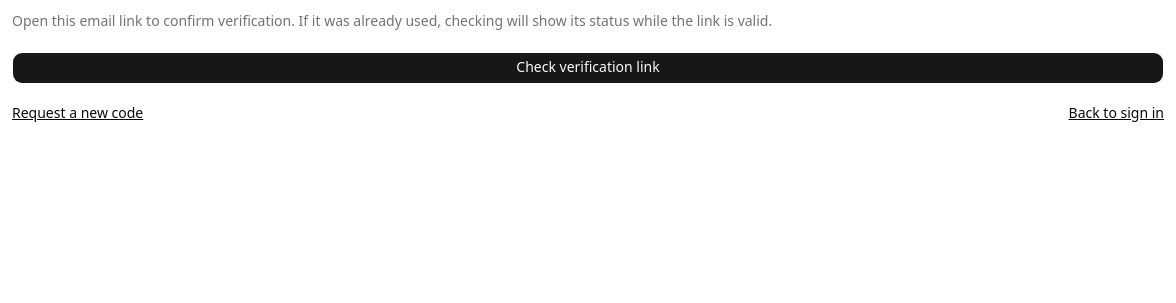
it: OTP and secure-link verification › establishes dedicated proof and retries the same valid link after an incorrect password
The width and height of the screenshot is (1176, 303).
Submit the form named "Check verification link", box [12,12,1164,84]
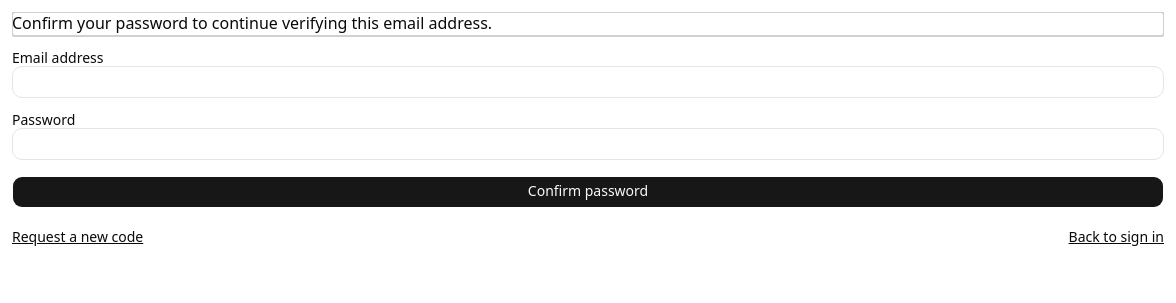
Check: the password field labelled "Password" is shown, box [12,128,1164,160]
Type "person@example.com" into the field labelled "Email address" at (588, 82), box [12,66,1164,98]
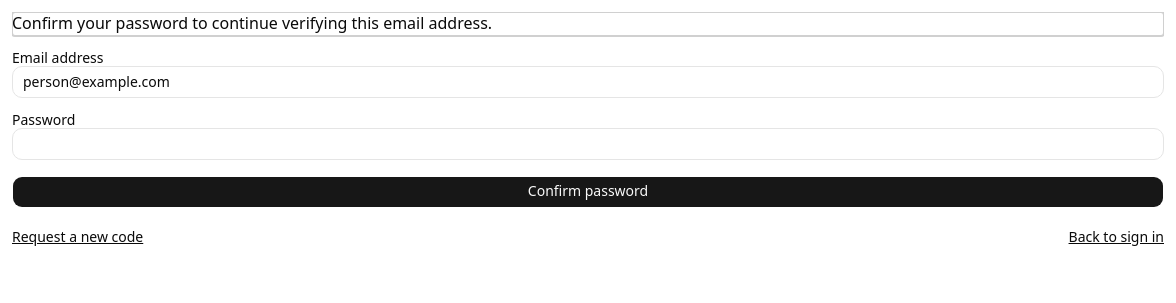
Type "  exact Unicode password Ω  " into the password field labelled "Password" at (588, 144), box [12,128,1164,160]
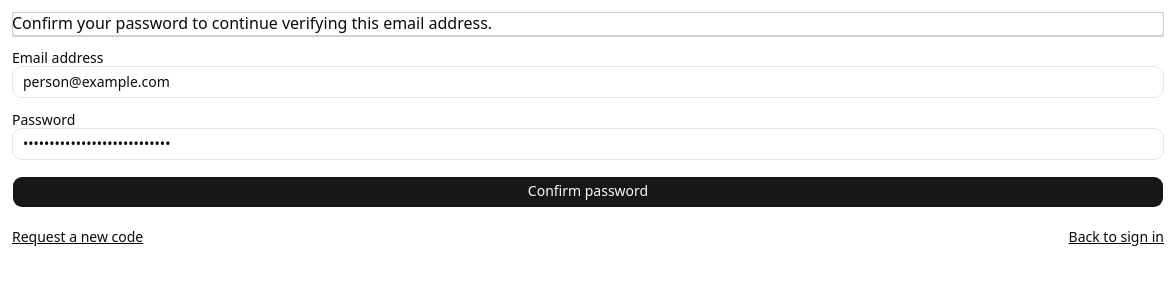
Submit the form named "Check verification link"
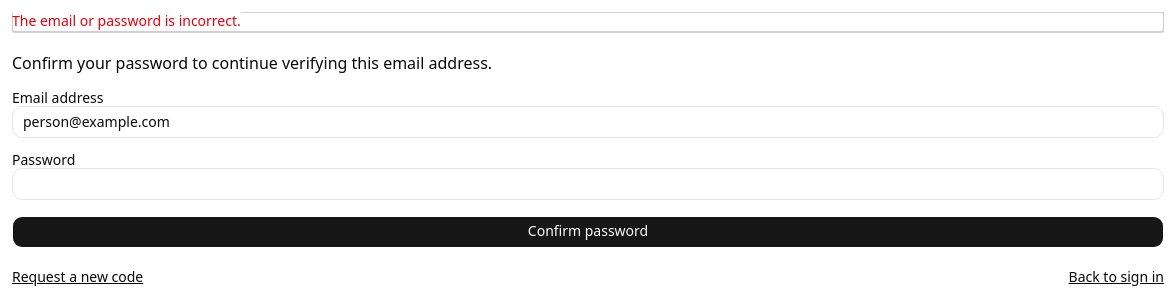
Check: the message "The email or password is incorrect." is shown, box [12,11,241,32]
Check: the password field labelled "Password" is empty
Type "  exact Unicode password Ω  " into the password field labelled "Password" at (588, 184), box [12,168,1164,200]
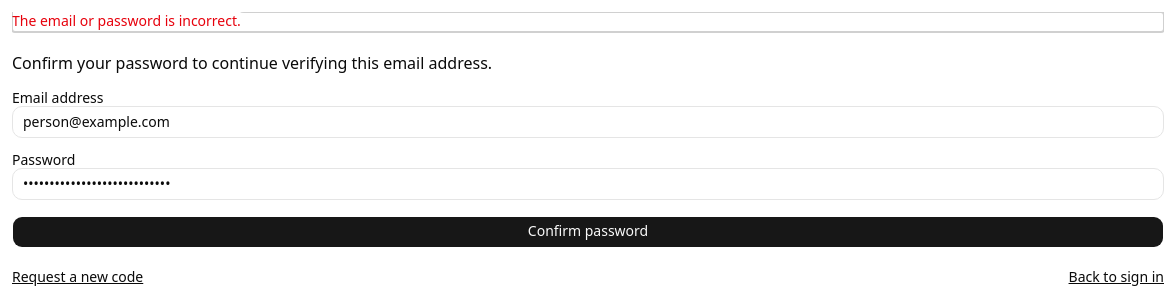
Submit the form named "Check verification link"
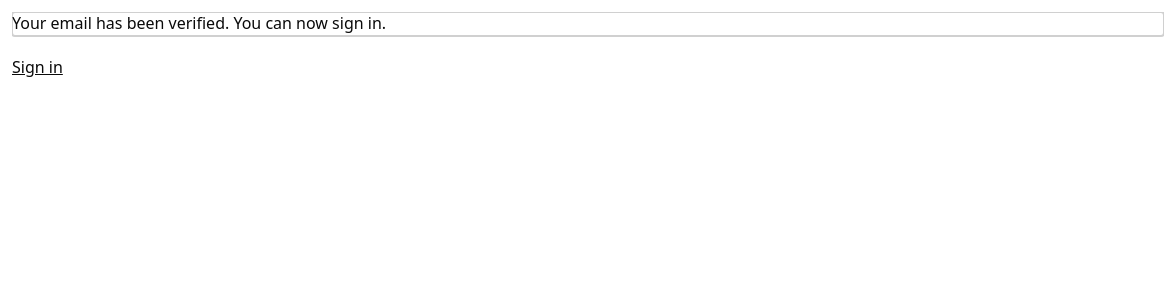
Check: the link "Sign in" is shown, box [12,56,63,80]
